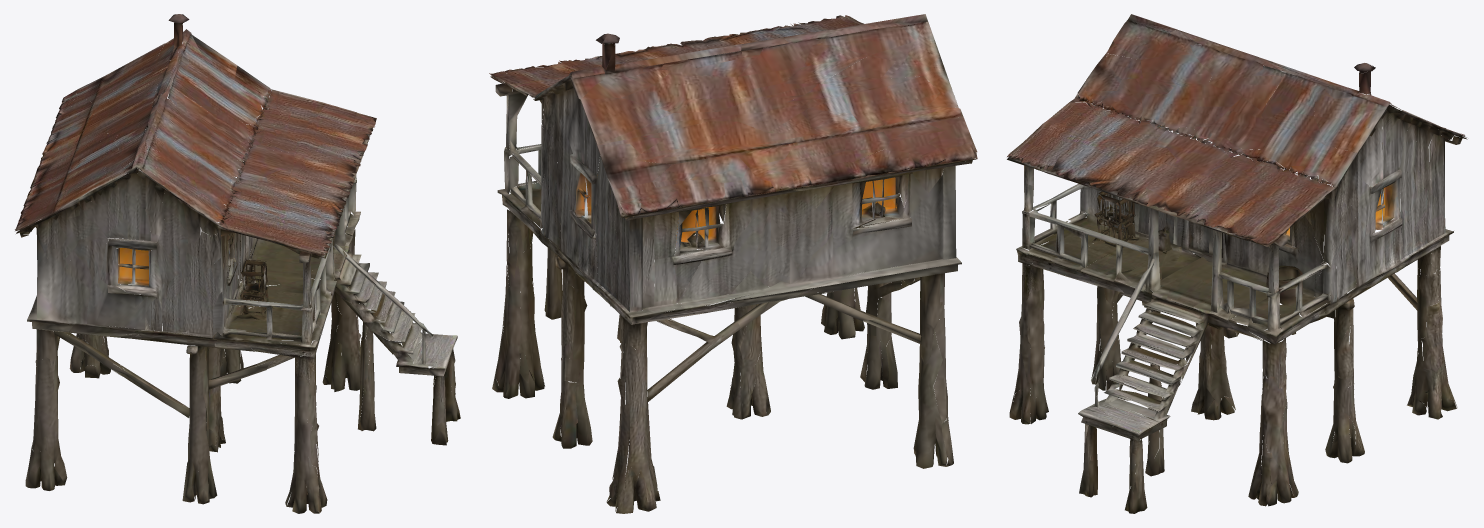
Rendered from cabin.glb.
3 views of the same model, side by side, from view 1: azimuth 30°, elevation 25°; view 2: azimuth 150°, elevation 25°; view 3: azimuth 270°, elevation 25° (orthographic). The views are drawn at different scales.
Parts seen in each view (by area): view 1: tripo_node_09f54e24-81d1-4fb2-8270-280c558ab4d8; view 2: tripo_node_09f54e24-81d1-4fb2-8270-280c558ab4d8; view 3: tripo_node_09f54e24-81d1-4fb2-8270-280c558ab4d8.
Boxes of the visible parts, box(x1,y1,x2,y2) form: tripo_node_09f54e24-81d1-4fb2-8270-280c558ab4d8: box(15, 14, 460, 513); tripo_node_09f54e24-81d1-4fb2-8270-280c558ab4d8: box(489, 14, 977, 513); tripo_node_09f54e24-81d1-4fb2-8270-280c558ab4d8: box(1007, 14, 1467, 513).
Size of the model in its own units: 10.48 by 9 by 10.1.
Materials: 1 (1 with a texture image).
